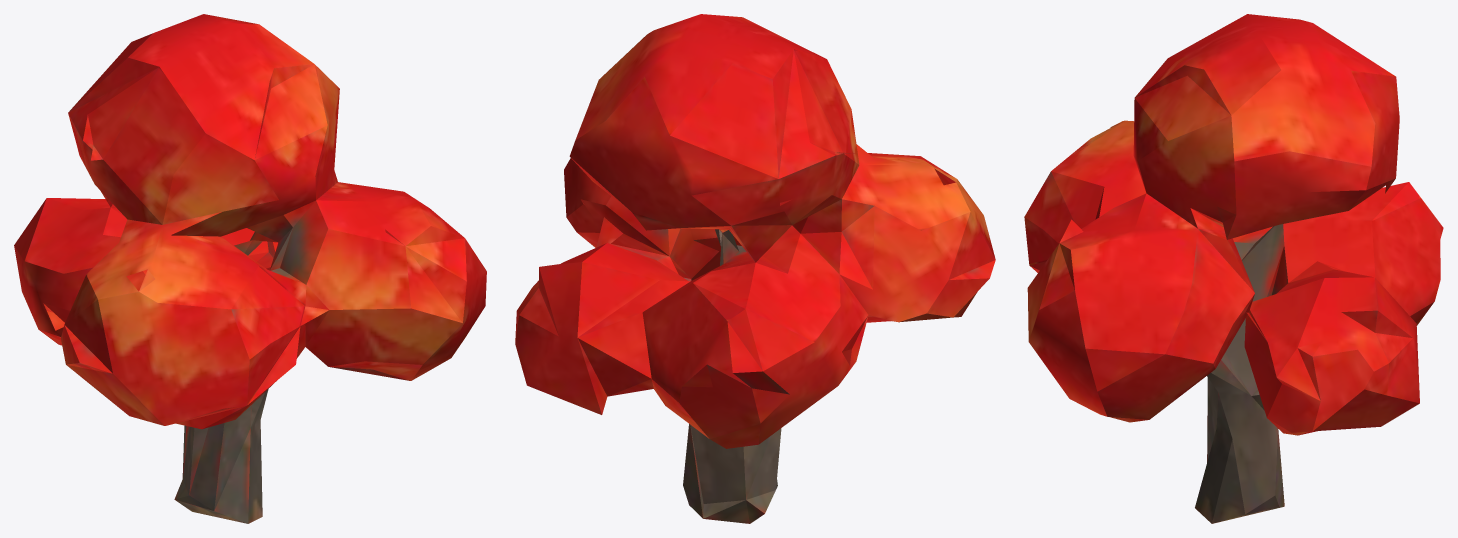
Rendered from tree-maple-lod.glb.
3 views of the same model, side by side, from view 1: azimuth 30°, elevation 25°; view 2: azimuth 150°, elevation 25°; view 3: azimuth 270°, elevation 25° (orthographic). The views are drawn at different scales.
Parts seen in each view (by area): view 1: object; view 2: object; view 3: object.
Part boxes in pixels (x1,y1,x2,y2): object: (14, 14, 486, 523); object: (515, 14, 995, 523); object: (1024, 14, 1443, 523).
Bounding box in the file's own units: 5.17 × 6 × 4.69.
1 material, 1 textured.
